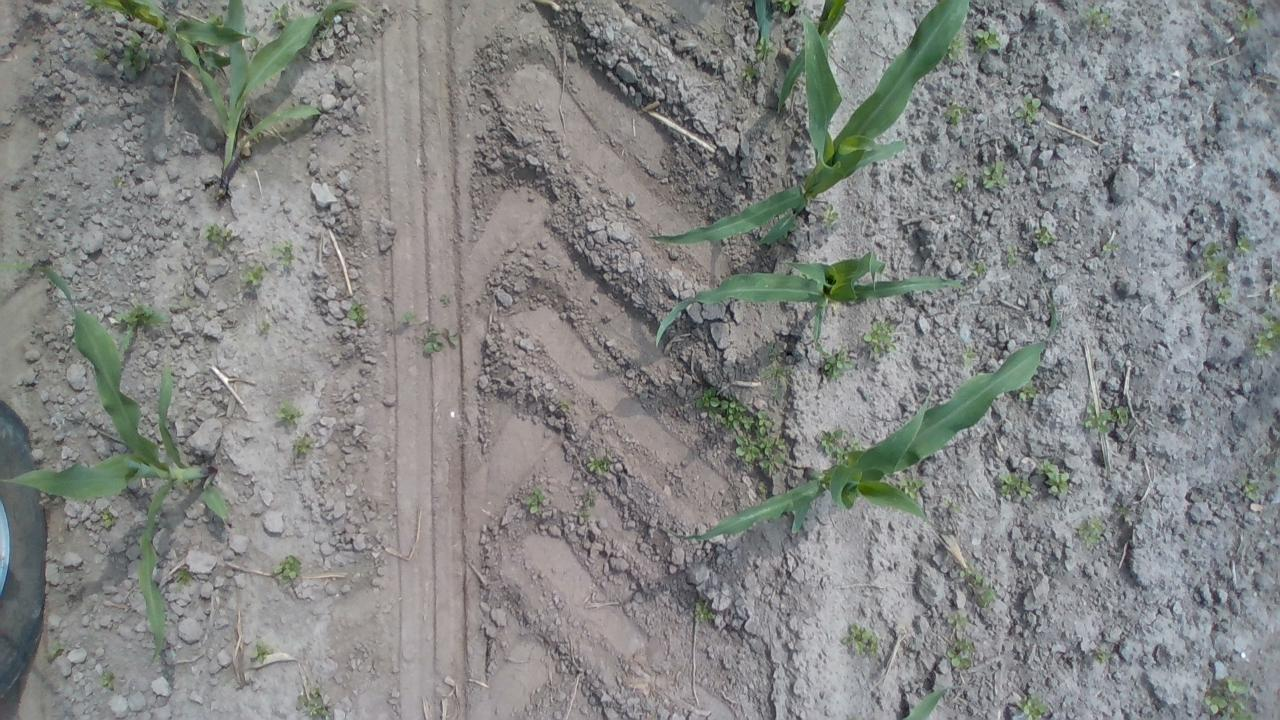Maize: (654, 276, 1060, 543), (0, 260, 232, 674), (644, 0, 972, 247), (165, 0, 374, 202), (655, 248, 969, 350), (85, 0, 255, 70), (776, 0, 849, 118), (902, 686, 962, 720), (751, 0, 773, 59)
Weeds: (694, 386, 786, 470), (121, 28, 152, 82), (1083, 402, 1130, 435), (839, 622, 880, 658), (1204, 691, 1254, 720), (1035, 456, 1071, 496), (756, 342, 796, 378), (113, 298, 168, 324), (1253, 310, 1280, 358), (862, 319, 897, 354), (1201, 239, 1228, 283), (272, 554, 305, 588), (422, 326, 461, 354), (296, 686, 330, 718), (946, 636, 977, 671), (1074, 514, 1104, 548), (1014, 93, 1042, 129), (1015, 692, 1051, 720), (957, 554, 988, 586), (825, 346, 854, 380), (942, 98, 972, 128), (274, 399, 304, 429), (996, 472, 1032, 497), (584, 450, 616, 478), (574, 487, 598, 524), (522, 483, 548, 517), (982, 158, 1009, 189), (974, 26, 1002, 55), (204, 221, 232, 250), (1080, 3, 1110, 30), (834, 436, 864, 463), (268, 237, 294, 268), (820, 426, 846, 456), (899, 476, 926, 501), (250, 636, 274, 664), (1238, 6, 1261, 34), (240, 261, 265, 286), (692, 596, 716, 622), (756, 34, 778, 62), (292, 432, 316, 457), (974, 588, 998, 613), (1221, 674, 1248, 695), (346, 296, 364, 326), (270, 0, 290, 27), (1240, 475, 1260, 502), (1034, 226, 1056, 250), (822, 202, 841, 228), (946, 610, 968, 631), (44, 640, 64, 661), (950, 172, 969, 194), (961, 344, 978, 368), (175, 568, 192, 592), (1214, 284, 1232, 306), (966, 260, 988, 278), (954, 35, 968, 63), (775, 0, 803, 14), (100, 505, 116, 529), (940, 498, 964, 514), (1004, 243, 1018, 270), (740, 60, 757, 82), (1019, 382, 1038, 401), (1094, 646, 1112, 666), (1235, 235, 1252, 255), (100, 670, 116, 690), (183, 282, 194, 308), (319, 20, 332, 40), (91, 46, 107, 62), (207, 12, 224, 26), (85, 0, 104, 12), (560, 395, 572, 413), (1103, 241, 1121, 253), (259, 319, 270, 336), (402, 310, 415, 324), (112, 174, 125, 188), (439, 294, 453, 306), (1114, 502, 1128, 514), (250, 38, 261, 52), (1268, 464, 1279, 476), (758, 481, 768, 494), (315, 0, 325, 11), (1274, 282, 1280, 300)
